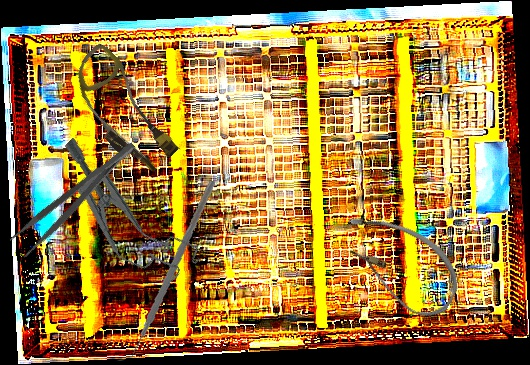Cannula: (54, 40, 192, 182), (324, 201, 473, 327)
Chopper: (95, 180, 235, 362)
Dressing Forceps: (7, 139, 147, 259)
Speculum: (36, 127, 206, 300)
